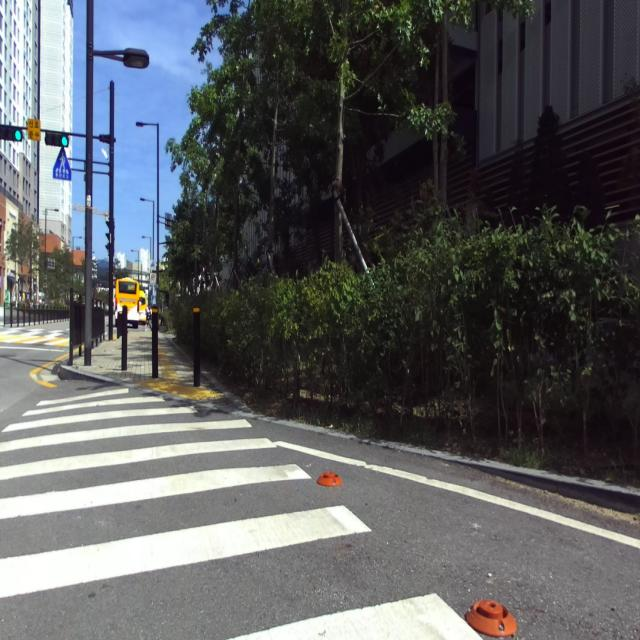횡단보도: (0, 387, 486, 640)
